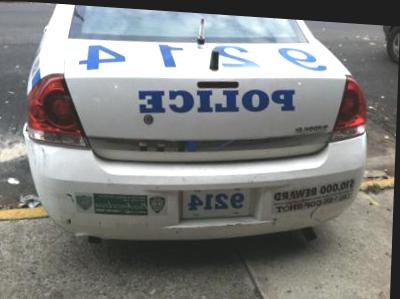License_Plate: (180, 184, 252, 227)
